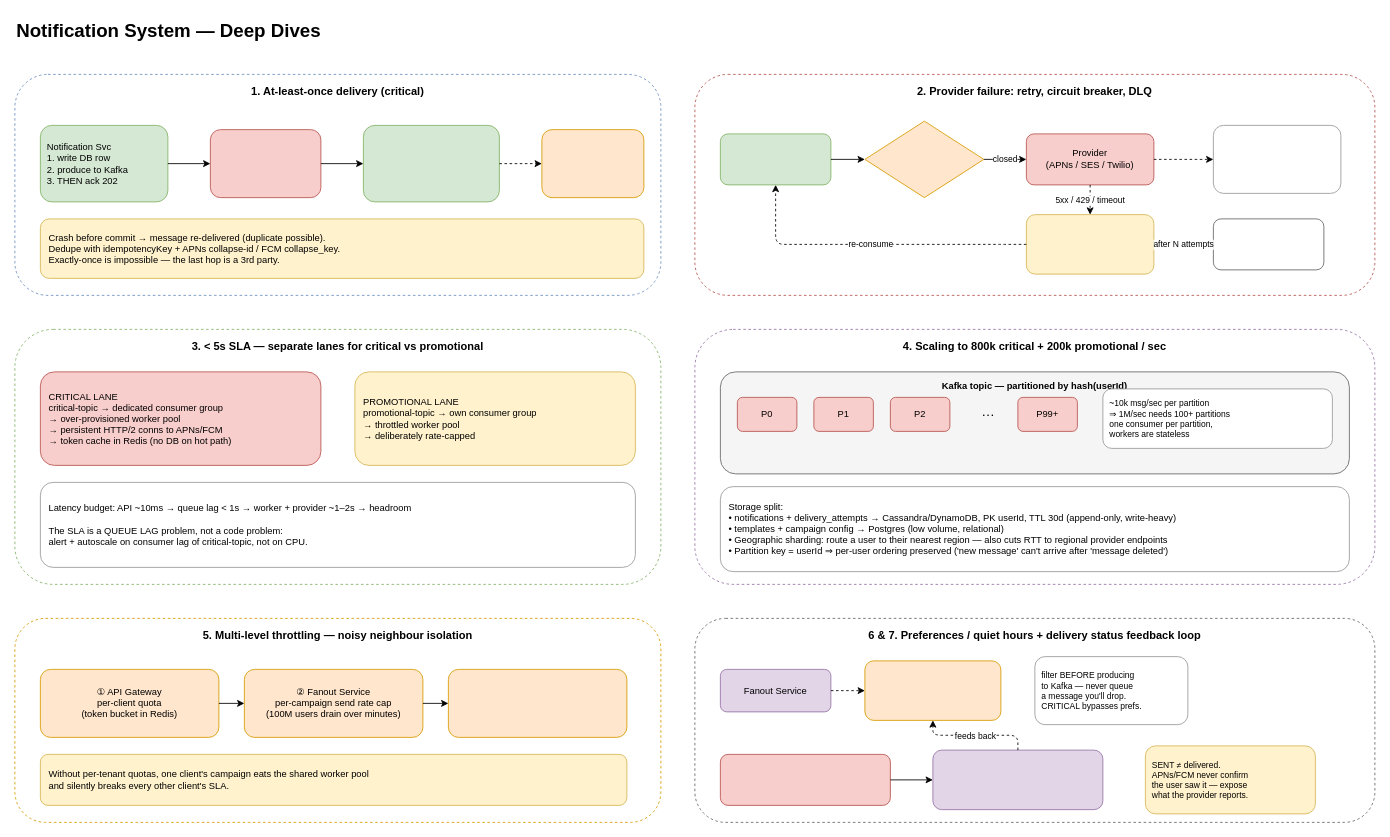
The diagram is 1390 pixels wide and 837 high, and some of its shapes have lost their labels. Each missing label, with the centre of its shape:
"Channel Worker" belongs at (x=775, y=159).
"Circuit Breaker" belongs at (x=924, y=159).
"DLQ manual replay" belongs at (x=1268, y=244).
"Kafka critical-topic (durable log)" belongs at (x=265, y=163).
"permanent error (400, invalid token, unsub) → delete device row, NEVER retry" belongs at (x=1277, y=159).
"Preference Service (Redis-cached) quiet hours, opt-outs" belongs at (x=932, y=690).
"Provider webhooks delivered / bounced / complained" belongs at (x=805, y=779).
"Redis idempotencyKey TTL 24h" belongs at (x=592, y=163).
"retry topics 5s → 30s → 5m (exp backoff + jitter)" belongs at (x=1090, y=244).
"Status Consumer → update delivery_attempts → suppress hard bounces" belongs at (x=1017, y=779).
"Worker send → provider ACK → commit offset (manual commit)" belongs at (x=431, y=163).
"③ Channel Worker provider rate limit (e.g. SES 14/sec) shared Redis counter" belongs at (x=537, y=703).
